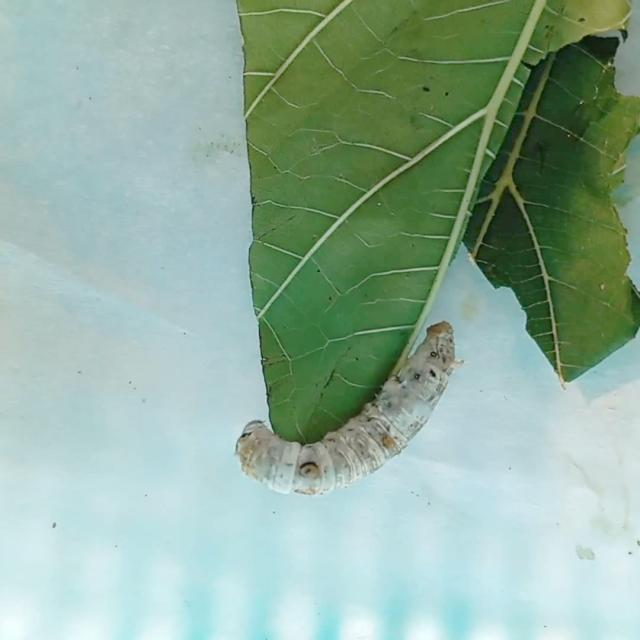Grasserie: (229, 303, 460, 498)
